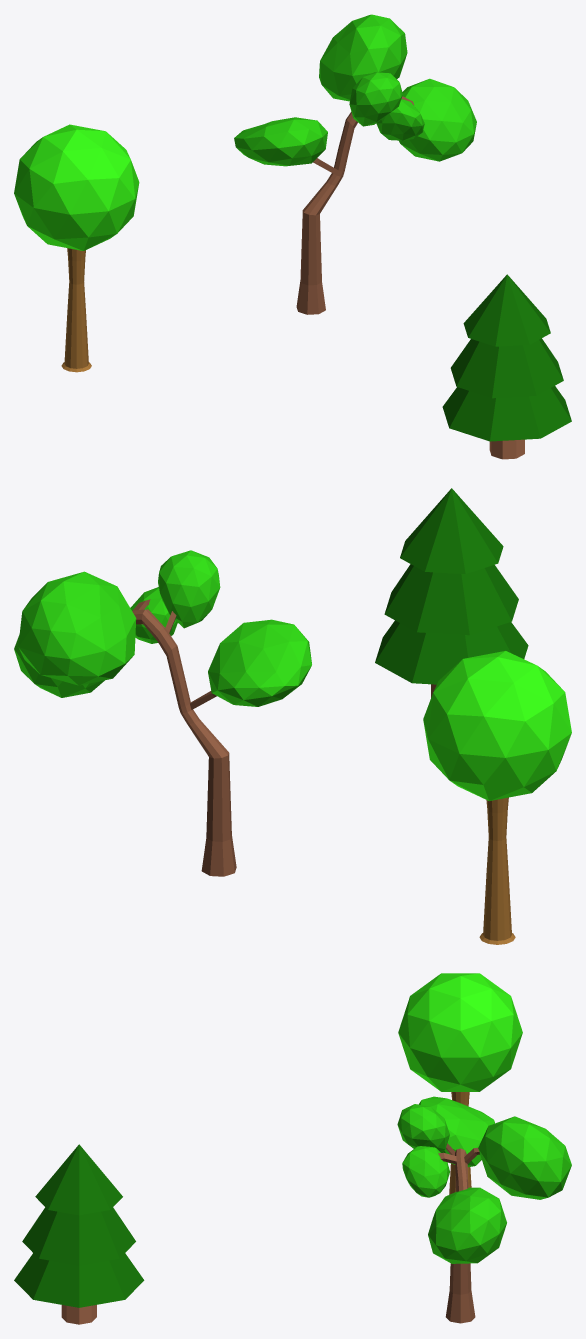
Rendered from trees.fbx.
3 views of the same model, one above another, from view 1: azimuth 30°, elevation 25°; view 2: azimuth 150°, elevation 25°; view 3: azimuth 270°, elevation 25° (orthographic). The views are drawn at different scales.
Visible parts, largest first — view 1: Tree_2, Spruce, Tree_1; view 2: Tree_2, Tree_1, Spruce; view 3: Tree_2, Spruce, Tree_1.
Part boxes in pixels (x1=…): Tree_2: x1=234, y1=14, x2=476, y2=314; Spruce: x1=442, y1=274, x2=571, y2=459; Tree_1: x1=14, y1=124, x2=139, y2=372; Tree_2: x1=14, y1=550, x2=311, y2=876; Tree_1: x1=423, y1=651, x2=571, y2=944; Spruce: x1=375, y1=488, x2=528, y2=697; Tree_2: x1=397, y1=1096, x2=571, y2=1323; Spruce: x1=14, y1=1144, x2=144, y2=1324; Tree_1: x1=398, y1=973, x2=522, y2=1194.
Bounding box in the file's own units: 3407 × 1768 × 3751.
